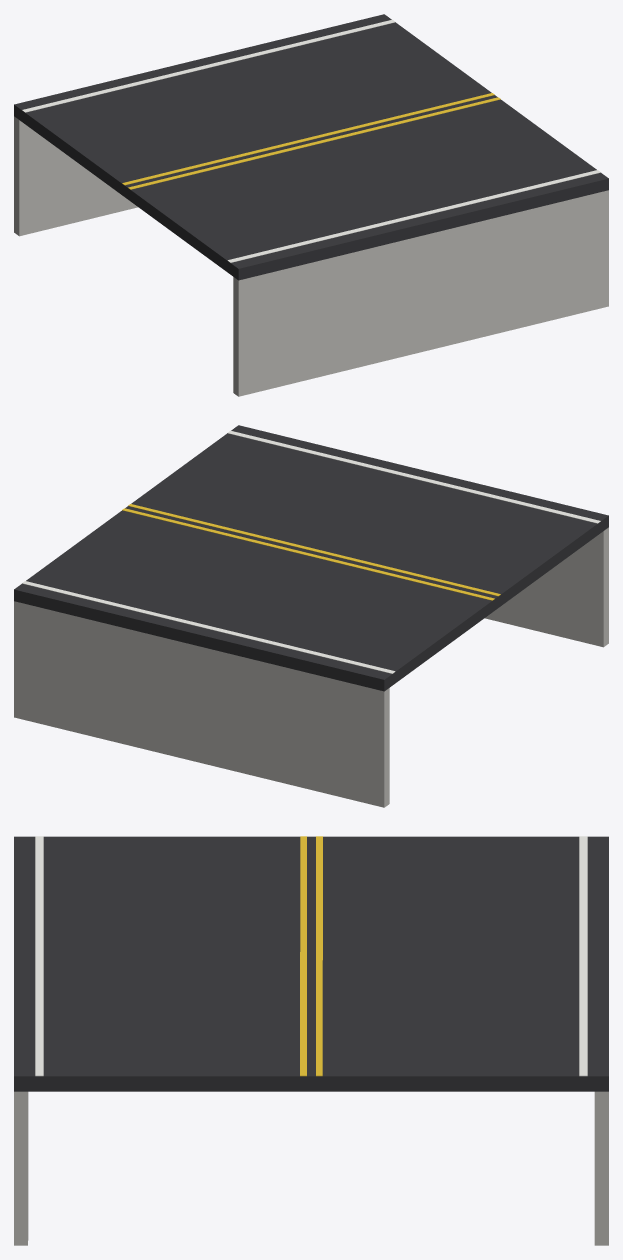
File: SM_Road_TwoLane_Straight10m.fbx
3 renders of one model, top to bottom at view 1: azimuth 30°, elevation 25°; view 2: azimuth 150°, elevation 25°; view 3: azimuth 270°, elevation 25°, orthographic. The views are drawn at different scales.
Parts seen in each view (by area): view 1: Road_TwoLane_Straight10m; view 2: Road_TwoLane_Straight10m; view 3: Road_TwoLane_Straight10m.
Boxes of the visible parts, <box> form: Road_TwoLane_Straight10m: <box>14,14,608,396</box>; Road_TwoLane_Straight10m: <box>14,425,608,807</box>; Road_TwoLane_Straight10m: <box>14,836,608,1245</box>.
Size of the model in its own units: 10.5 by 10 by 3.31.
